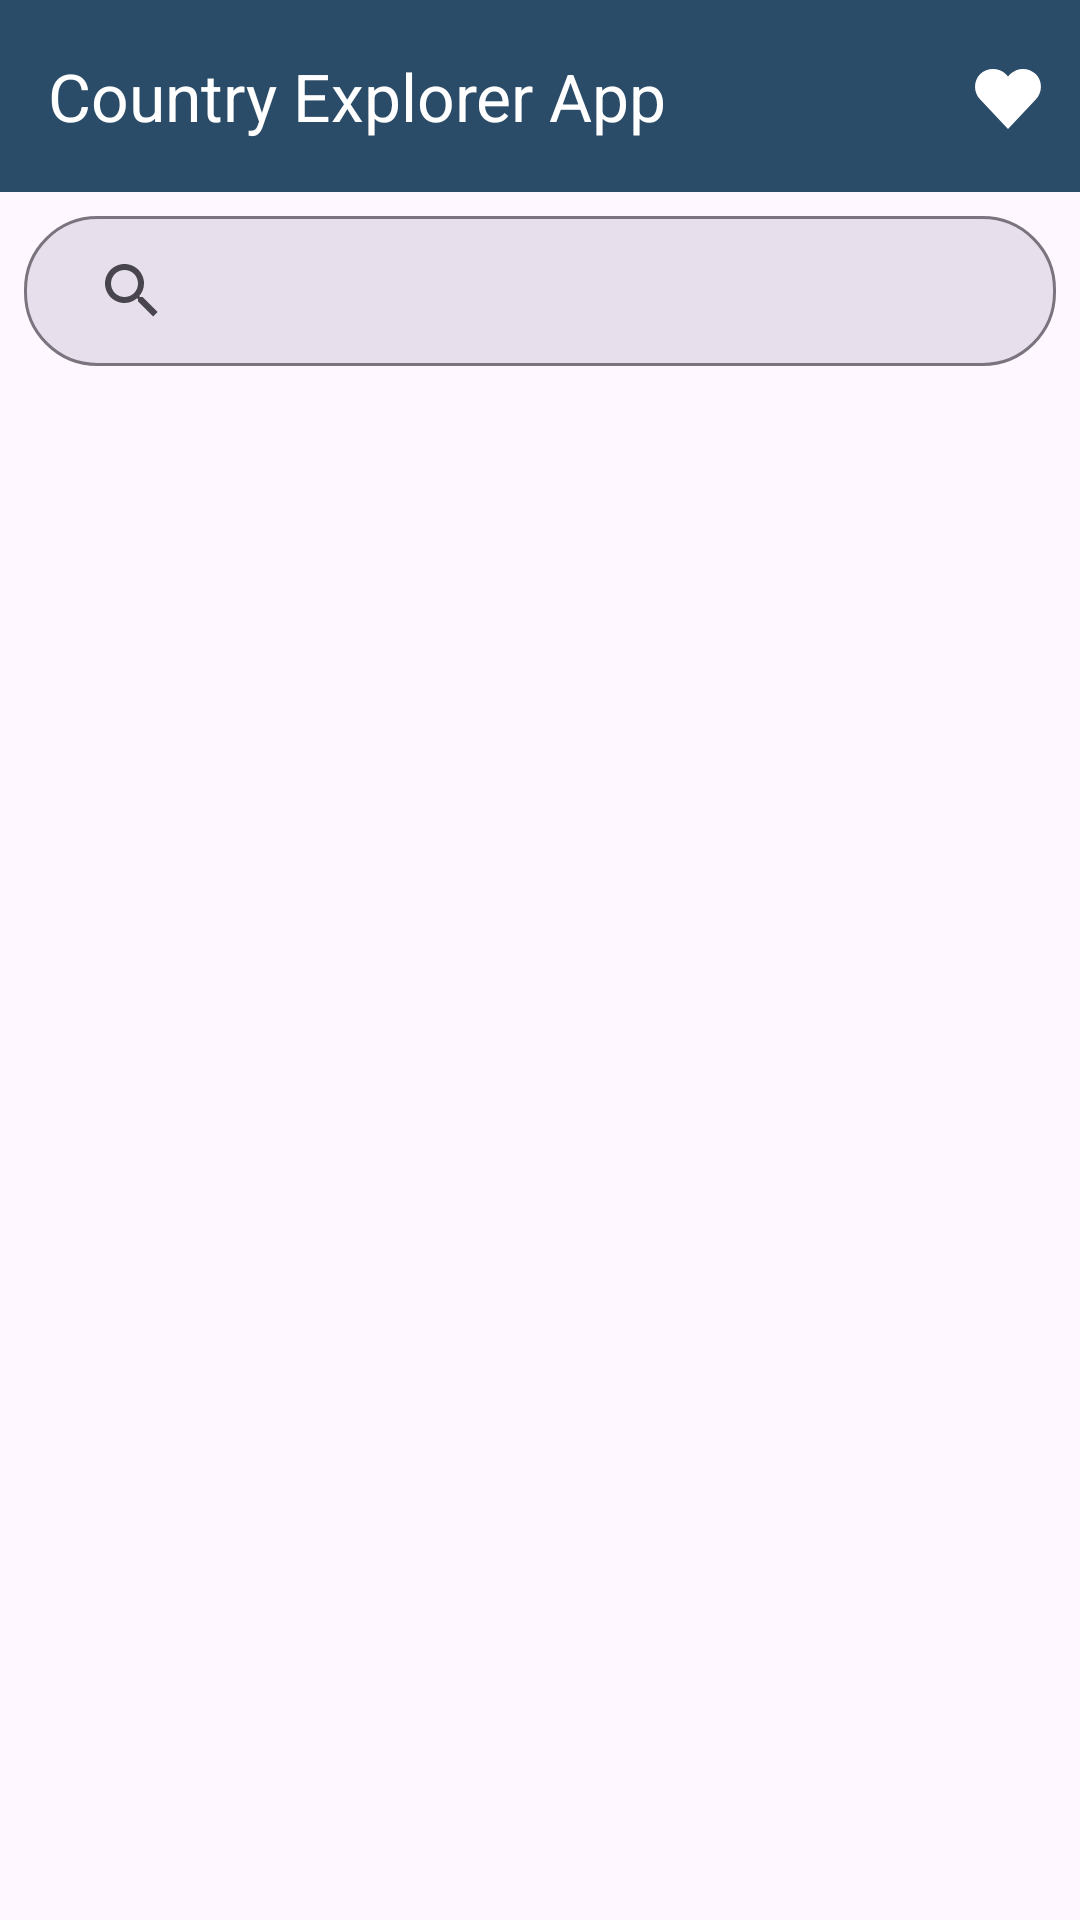

Named icons in this screenshot (1080 x 1920) and their centers, [x,y]:
Favorites countries: [1008,99]
